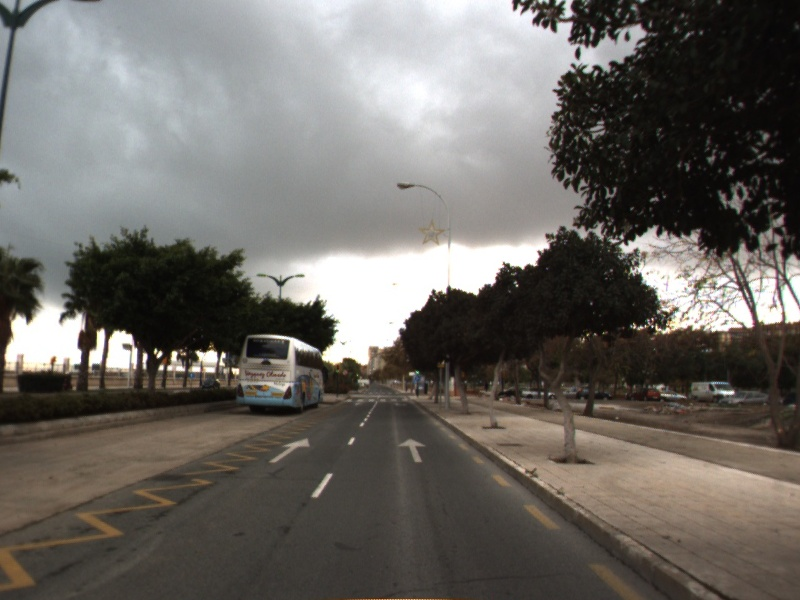STRAIGHT: (267, 436, 312, 464), (396, 437, 428, 464)
